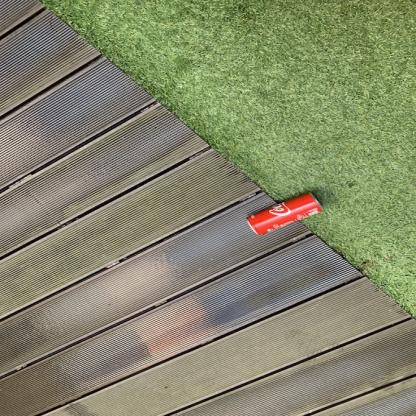trash: (243, 191, 325, 240)
